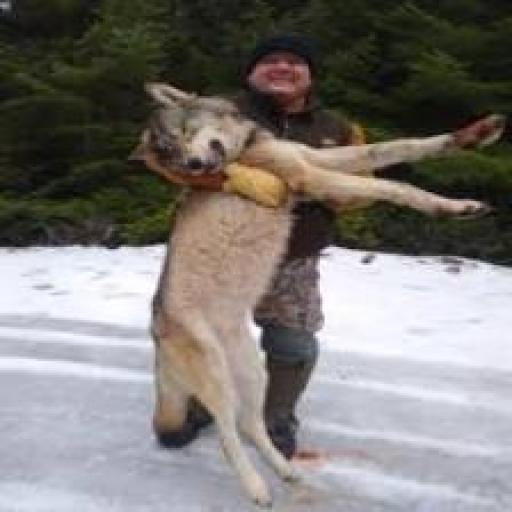wolf: (126, 75, 507, 512)
